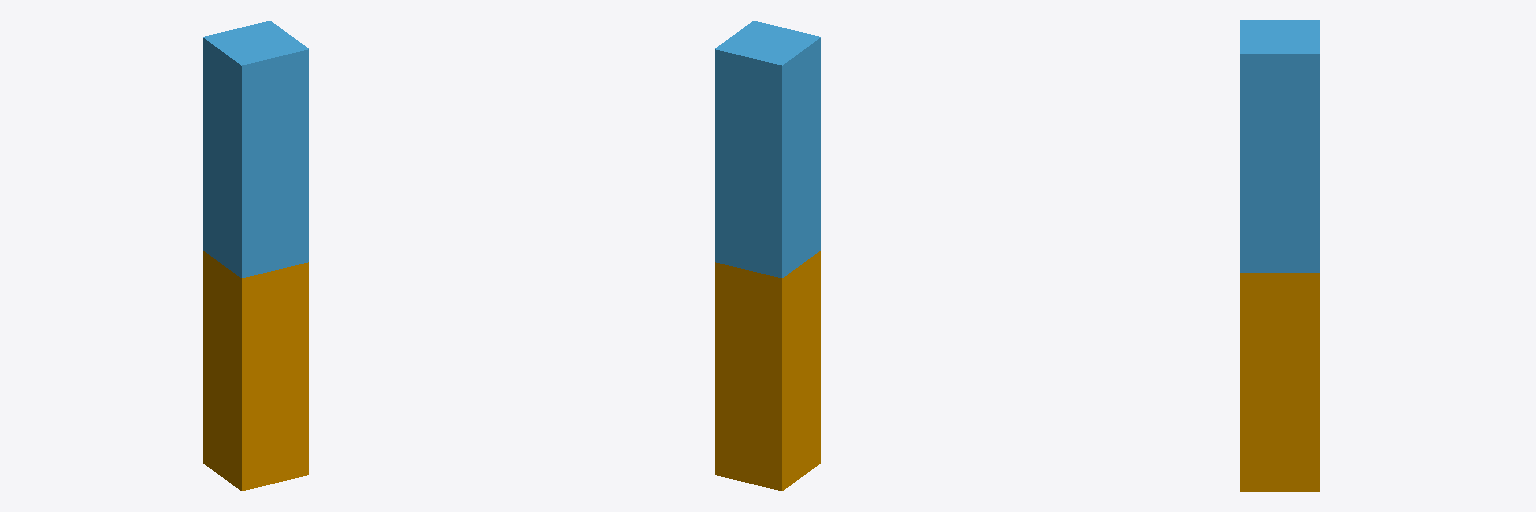
URDF robot description (myfirst):
<?xml version="1.0"?>
<robot name="myfirst">
  <link name="base_link">
    <visual>
      <origin rpy="0 0 0" xyz="0 0 0.75" />
      <geometry>
        <box size="0.5 0.5 1.5"/> 
      </geometry>
    </visual>
  </link>
  <link name="link_one">
    <visual>
      <origin rpy="0 0 0" xyz="0 0 0.75" />
      <geometry>
        <box size="0.5 0.5 1.5"/> 
      </geometry>
      <material name="white"/>
    </visual>
  </link>
  <joint name="base_to_one" type="revolute">
    <parent link="base_link"/>
    <child link="link_one"/>
    <axis xyz="0.0 1.0 0.0"/>
    <origin xyz="0.0 0.0 1.5" />
    <limit lower="-1.0" upper="1.0" effort="1000.0" velocity="0.5"/>
  </joint>
  <!-- <joint name="base_to_one" type="fixed">
    <parent link="base_link"/>
    <child link="link_one"/>
    <origin xyz="0.0 0.0 1.5" />
  </joint> -->
</robot>

--- What the picture shows (computed from the rendered views, not written in the file) ---
Views: 3 orthographic renders of the robot side by side, from view 1: azimuth 30°, elevation 25°; view 2: azimuth 150°, elevation 25°; view 3: azimuth 270°, elevation 25°.
Model myfirst with 2 links and 1 joints (1 revolute), rooted at base_link, posed every joint at zero.
Links seen in each view (by area): view 1: link_one, base_link; view 2: link_one, base_link; view 3: link_one, base_link.
Boxes of the visible links, x1,y1,x2,y2 form: link_one: [203, 21, 308, 277]; base_link: [203, 251, 308, 490]; link_one: [715, 21, 820, 277]; base_link: [715, 251, 820, 490]; link_one: [1240, 20, 1319, 272]; base_link: [1240, 273, 1319, 491].
Bounding box of the posed robot: 0.5 × 0.5 × 3 m (x, y, z).
Geometry: primitives only (box / cylinder / sphere), no mesh files.
